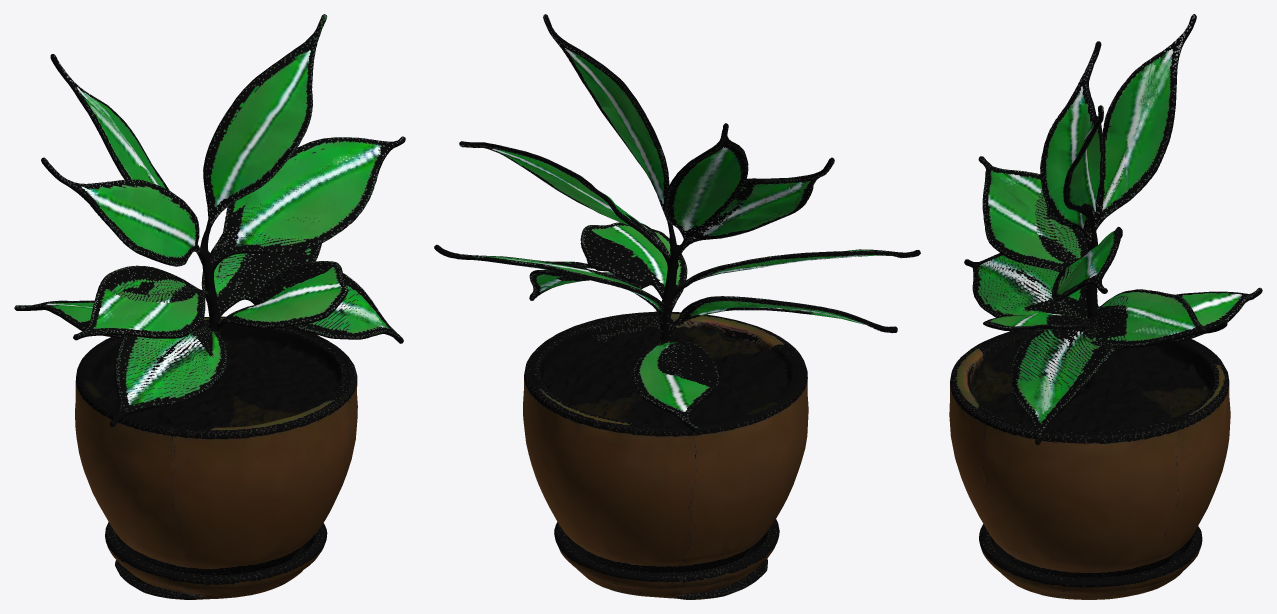
The model's file is growth-planter-b-generated-2026-04-18t01-36-15-986z-texture-wrap-2026-04-18T01-38-19-536Z.medium.glb.
3 views of the same model, side by side, from view 1: azimuth 30°, elevation 25°; view 2: azimuth 150°, elevation 25°; view 3: azimuth 270°, elevation 25° (orthographic).
Visible parts, largest first — view 1: temp_mesh.ply; view 2: temp_mesh.ply; view 3: temp_mesh.ply.
Boxes of the visible parts, bbox=[...] form: temp_mesh.ply: bbox=[14, 14, 405, 599]; temp_mesh.ply: bbox=[434, 14, 920, 599]; temp_mesh.ply: bbox=[949, 14, 1262, 599].
Size of the model in its own units: 1.57 by 1.97 by 1.08.
Materials: 1 (1 with a texture image).
